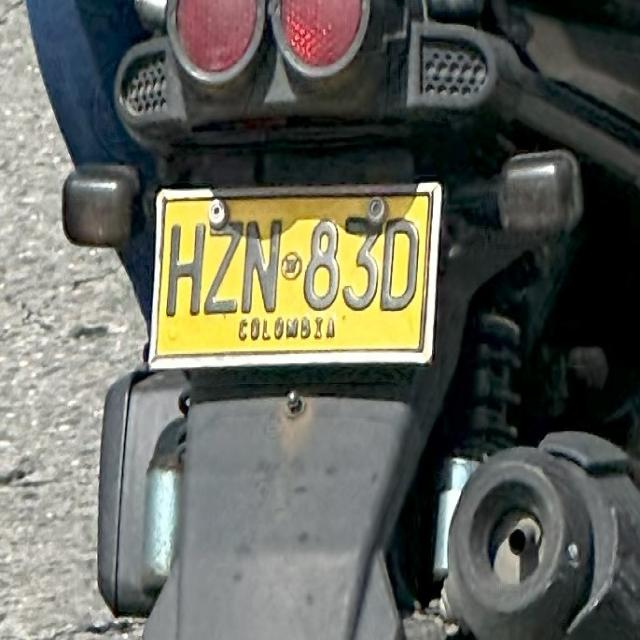number plate: (148, 182, 440, 366)
